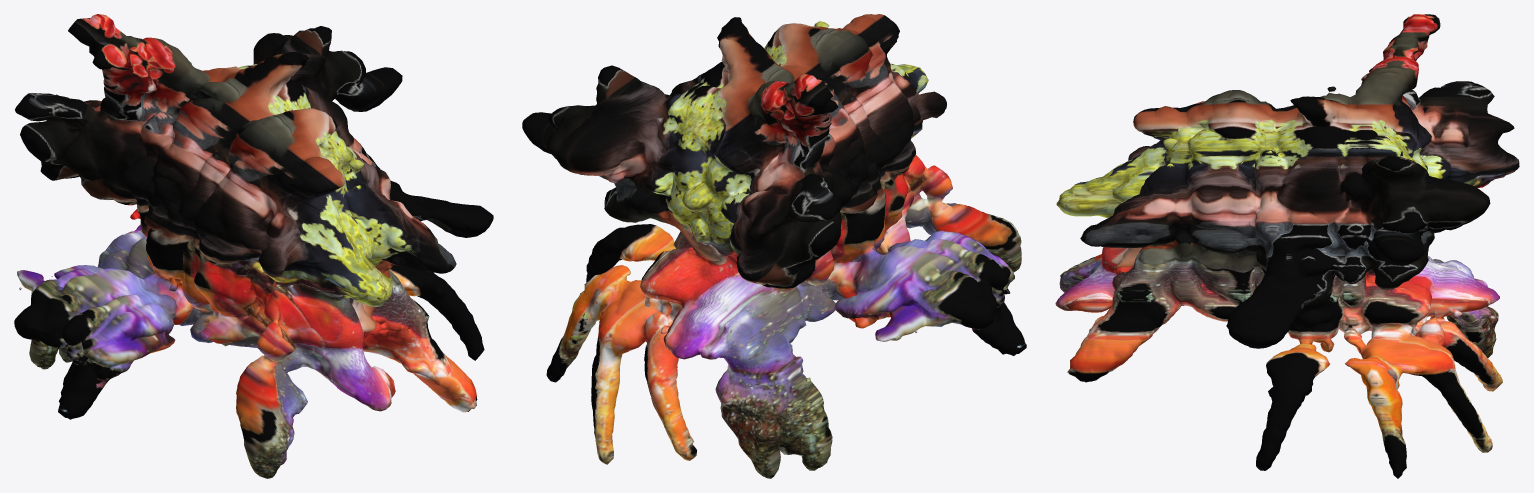
3 renders of one model, left to right at view 1: azimuth 30°, elevation 25°; view 2: azimuth 150°, elevation 25°; view 3: azimuth 270°, elevation 25°, orthographic. The views are drawn at different scales.
Visible parts, largest first — view 1: tmpoai8c9jp; view 2: tmpoai8c9jp; view 3: tmpoai8c9jp.
Boxes of the visible parts, x1,y1,x2,y2 form: tmpoai8c9jp: [14, 14, 493, 478]; tmpoai8c9jp: [522, 14, 1026, 478]; tmpoai8c9jp: [1055, 14, 1519, 478].
Size of the model in its own units: 0.5951 by 0.5181 by 0.5985.
Materials: 1 (1 with a texture image).
